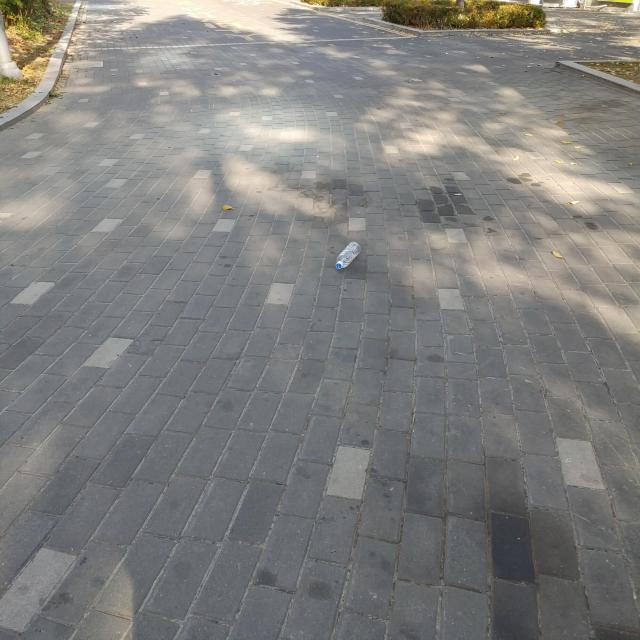plastic: (336, 241, 361, 269)
